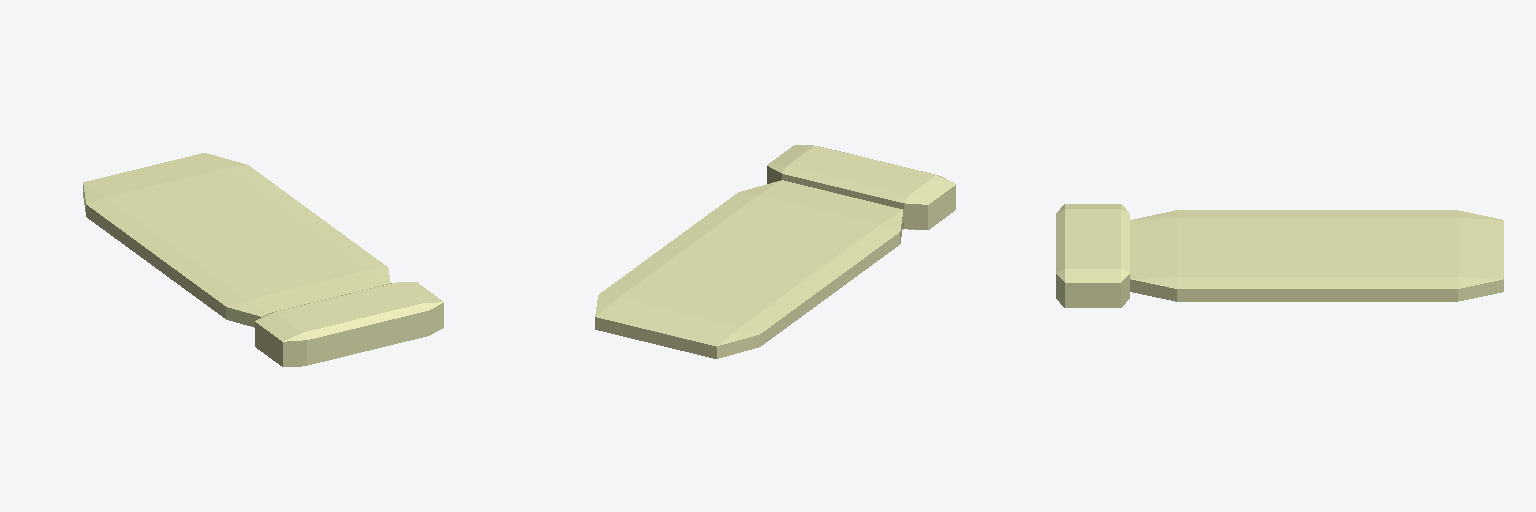
Rendered from AFM_DataCard.obj.
The picture shows the model from 3 angles: view 1: azimuth 30°, elevation 25°; view 2: azimuth 150°, elevation 25°; view 3: azimuth 270°, elevation 25°; orthographic projection.
Visible parts, largest first — view 1: mergedBlocks; view 2: mergedBlocks; view 3: mergedBlocks.
Boxes of the visible parts, x1=… form: mergedBlocks: x1=83, y1=153, x2=443, y2=366; mergedBlocks: x1=595, y1=145, x2=955, y2=358; mergedBlocks: x1=1056, y1=204, x2=1503, y2=307.
Size of the model in its own units: 1 by 0.2 by 2.4.